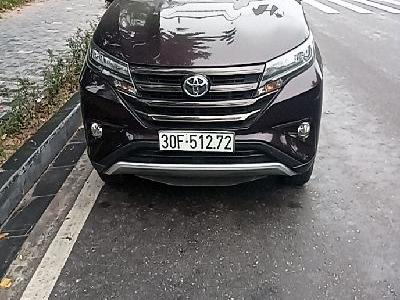car: (158, 131, 235, 156)
